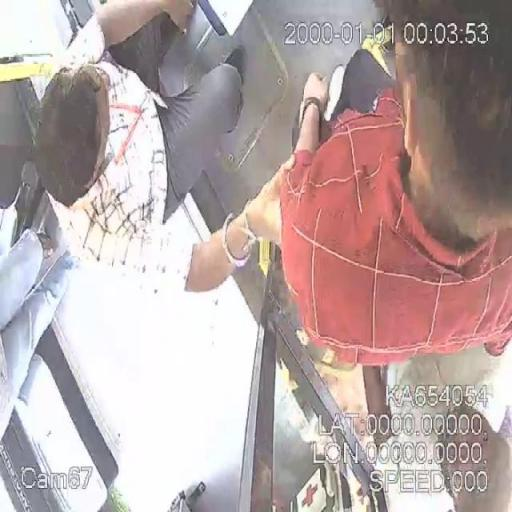persona: (272, 0, 512, 362), (37, 0, 281, 314)
